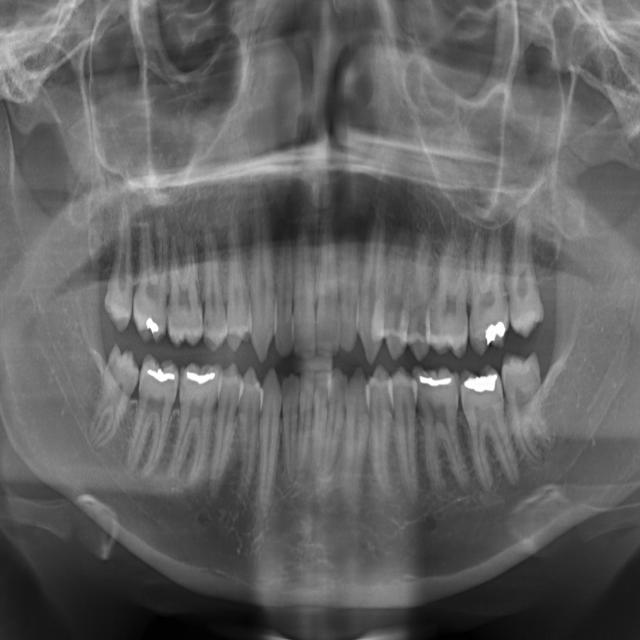AmalgamRestoration: (464, 372, 499, 395), (148, 361, 173, 392), (419, 372, 454, 390), (186, 365, 216, 385), (485, 321, 509, 343), (147, 315, 160, 332)
DentalCaries: (176, 382, 187, 413), (428, 317, 441, 339), (413, 318, 426, 339), (202, 314, 210, 339)
